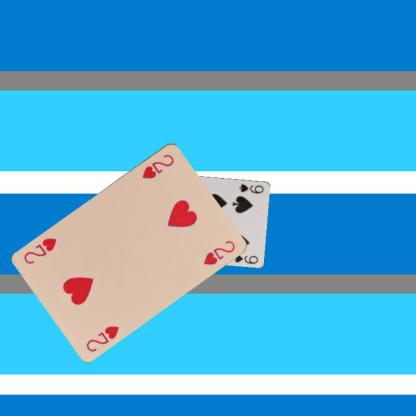2h: (83, 322, 120, 353), (139, 151, 176, 180)
9s: (237, 181, 265, 195)
